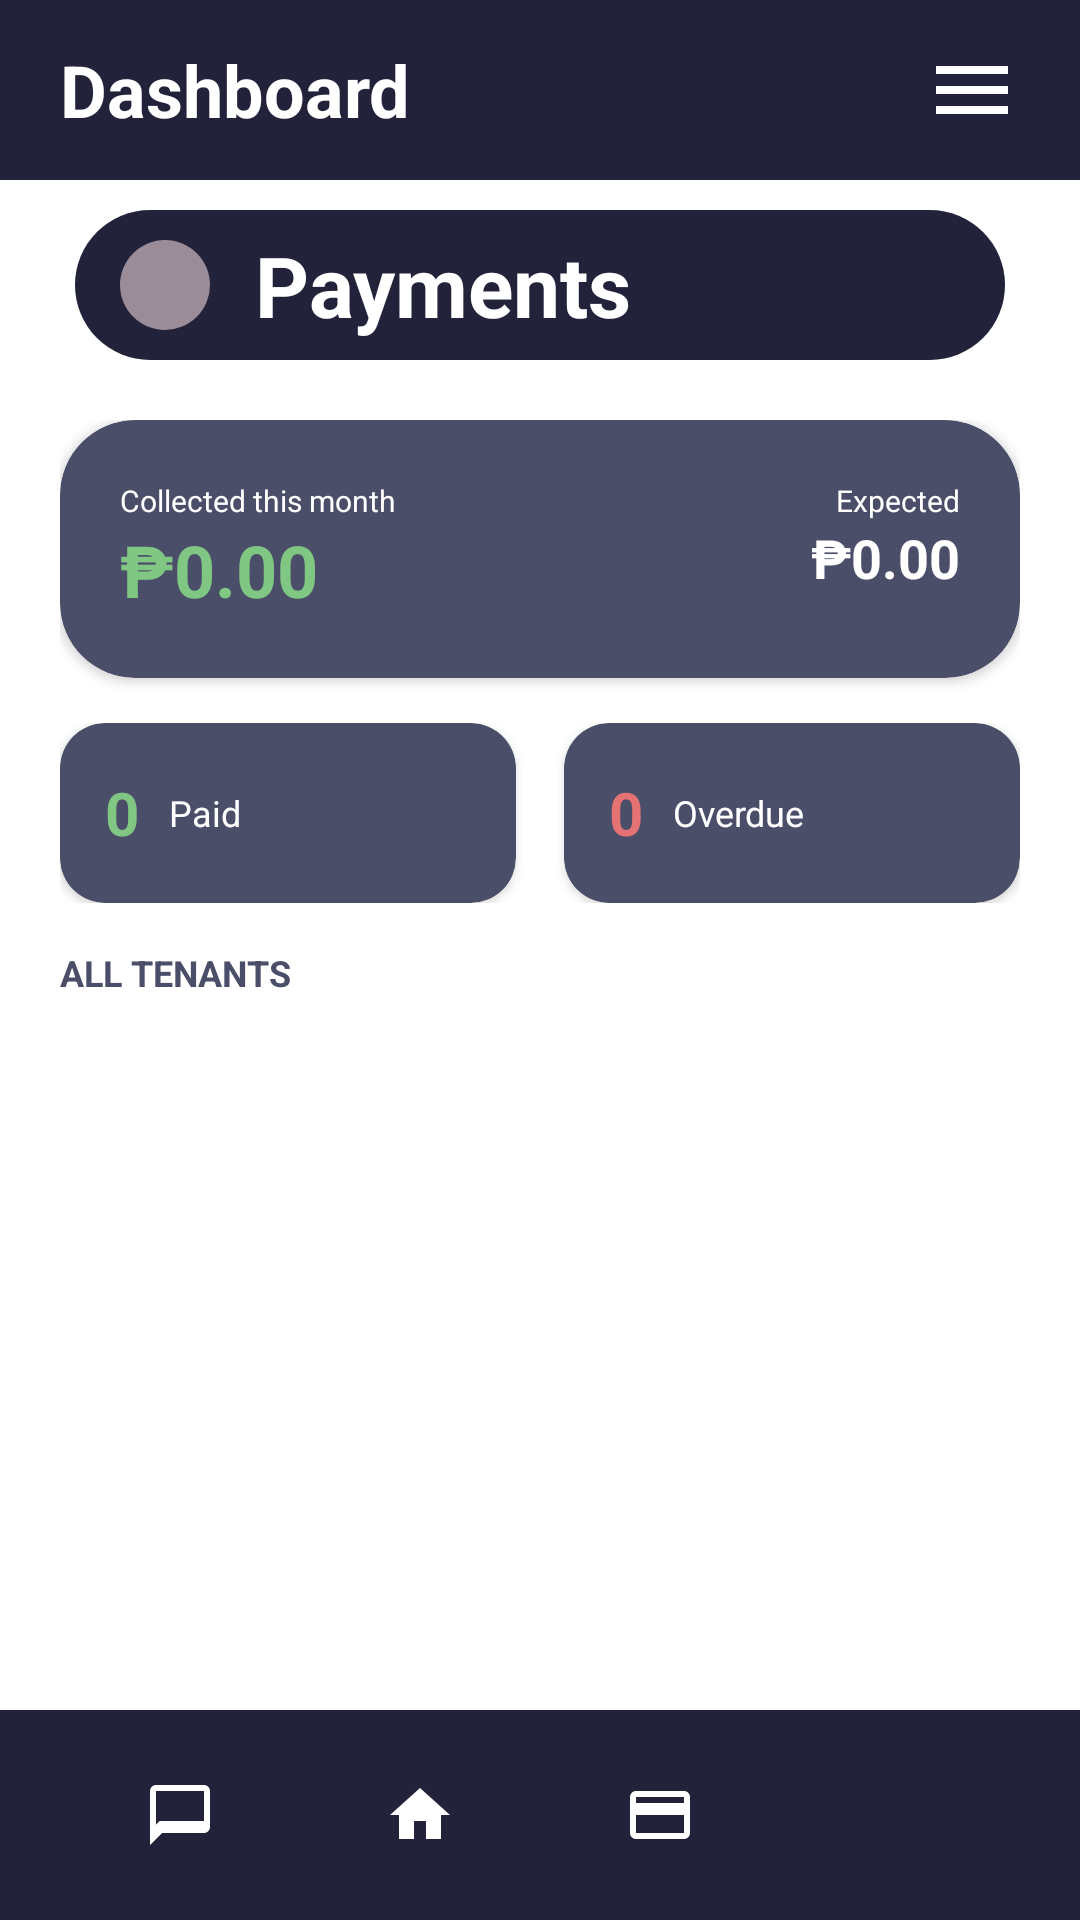

Where icons sit on this 1080x1920 app screen, as (x1, y1, x2, y2):
Home: (390, 1788, 450, 1839)
Menu: (936, 66, 1008, 114)
Messages: (150, 1785, 210, 1845)
Payments: (630, 1791, 690, 1839)
